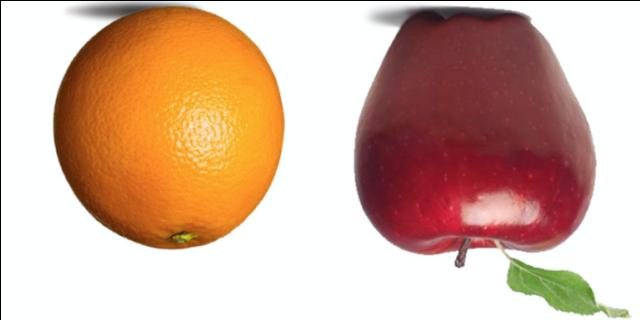Apples: (352, 12, 596, 256)
Oranges: (52, 7, 282, 250)
